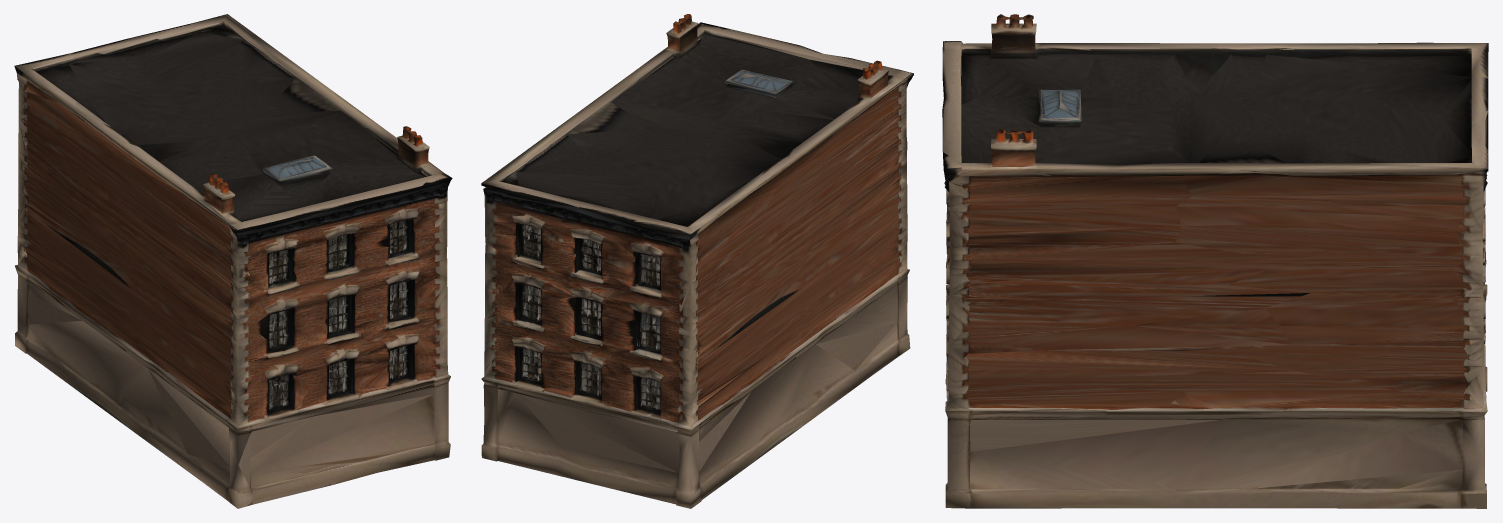
Rendered from MixedUseBrick_LOD2.fbx.
3 renders of one model, left to right at view 1: azimuth 30°, elevation 25°; view 2: azimuth 150°, elevation 25°; view 3: azimuth 270°, elevation 25°, orthographic. The views are drawn at different scales.
Parts seen in each view (by area): view 1: MixedUseBrick_Level2; view 2: MixedUseBrick_Level2; view 3: MixedUseBrick_Level2.
Boxes of the visible parts, left/top/right/bottom form: MixedUseBrick_Level2: left=14, top=14, right=452, bottom=508; MixedUseBrick_Level2: left=481, top=14, right=913, bottom=508; MixedUseBrick_Level2: left=942, top=14, right=1488, bottom=508.
Bounding box in the file's own units: 54.6 × 73.91 × 98.11.
Materials: 1 (1 with a texture image).
